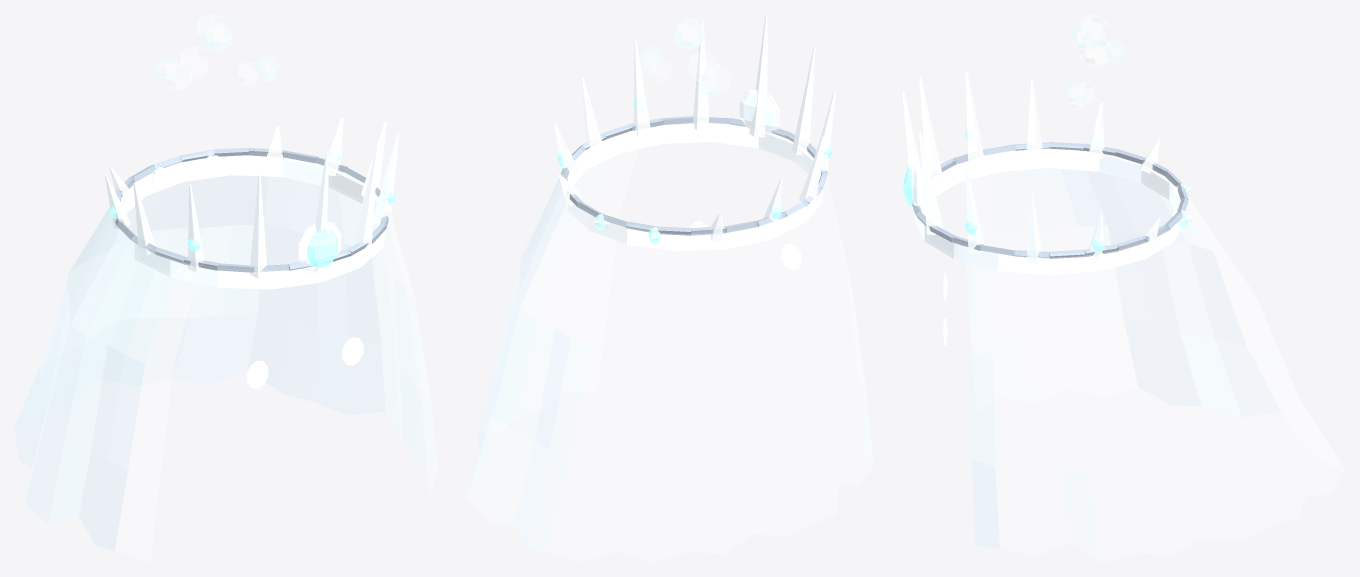
File: queen_ismay_crown.glb
The picture shows the model from 3 angles, left to right: view 1: azimuth 30°, elevation 25°; view 2: azimuth 150°, elevation 25°; view 3: azimuth 270°, elevation 25°; orthographic projection. The views are drawn at different scales.
Visible parts, largest first — view 1: queen_ismay_crown; view 2: queen_ismay_crown; view 3: queen_ismay_crown.
Boxes of the visible parts, left/top/right/bottom form: queen_ismay_crown: left=14, top=14, right=438, bottom=562; queen_ismay_crown: left=467, top=14, right=873, bottom=562; queen_ismay_crown: left=902, top=14, right=1345, bottom=562.
Bounding box in the file's own units: 1.45 × 1.82 × 1.61.
